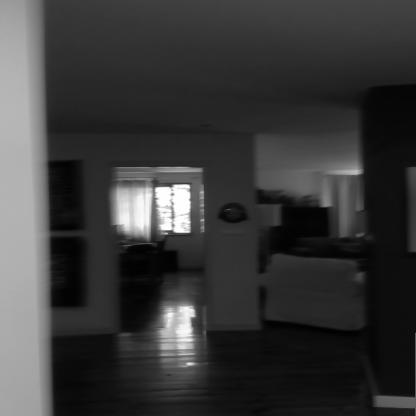open: (100, 158, 218, 346)
